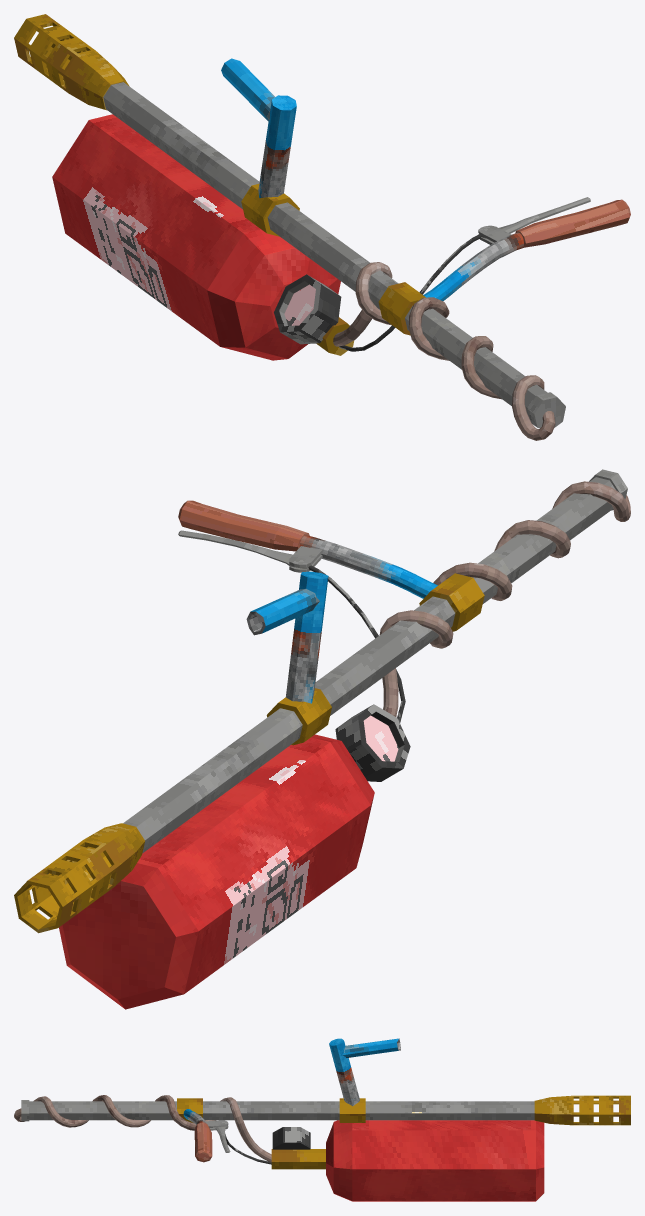
File: FlameThrower.glb
3 renders of one model, top to bottom at view 1: azimuth 30°, elevation 25°; view 2: azimuth 150°, elevation 25°; view 3: azimuth 270°, elevation 25°, orthographic. The views are drawn at different scales.
Parts seen in each view (by area): view 1: Cylinder.001, Cylinder, Cylinder.002, Plane, Cylinder.003, Cylinder.004, Plane.001, Plane.002, Cube; view 2: Cylinder.001, Cylinder, Cylinder.002, Plane, Cylinder.003, Cylinder.004, Plane.001, Cube; view 3: Cylinder.001, Cylinder, Cylinder.002, Plane, Cylinder.003, Cylinder.004.
Boxes of the visible parts, left/top/right/bottom form: Cylinder.001: left=52, top=114, right=354, bottom=360; Cylinder: left=103, top=82, right=565, bottom=428; Cylinder.002: left=14, top=14, right=129, bottom=110; Plane: left=333, top=262, right=555, bottom=440; Cylinder.003: left=221, top=58, right=296, bottom=198; Cylinder.004: left=515, top=199, right=630, bottom=247; Plane.001: left=423, top=232, right=523, bottom=300; Plane.002: left=339, top=234, right=481, bottom=351; Cube: left=482, top=197, right=590, bottom=238; Cylinder.001: left=59, top=704, right=410, bottom=1009; Cylinder: left=123, top=469, right=627, bottom=853; Cylinder.002: left=14, top=823, right=144, bottom=933; Plane: left=379, top=481, right=630, bottom=716; Cylinder.003: left=246, top=571, right=328, bottom=703; Cylinder.004: left=178, top=500, right=309, bottom=551; Plane.001: left=299, top=535, right=437, bottom=598; Cube: left=178, top=530, right=311, bottom=568; Cylinder.001: left=271, top=1120, right=544, bottom=1201; Cylinder: left=21, top=1098, right=534, bottom=1122; Cylinder.002: left=534, top=1095, right=630, bottom=1125; Plane: left=14, top=1095, right=271, bottom=1162; Cylinder.003: left=329, top=1038, right=400, bottom=1106; Cylinder.004: left=194, top=1122, right=212, bottom=1162.
Size of the model in its own units: 2.04 by 1.82 by 6.27.
14 materials, 14 textured.
